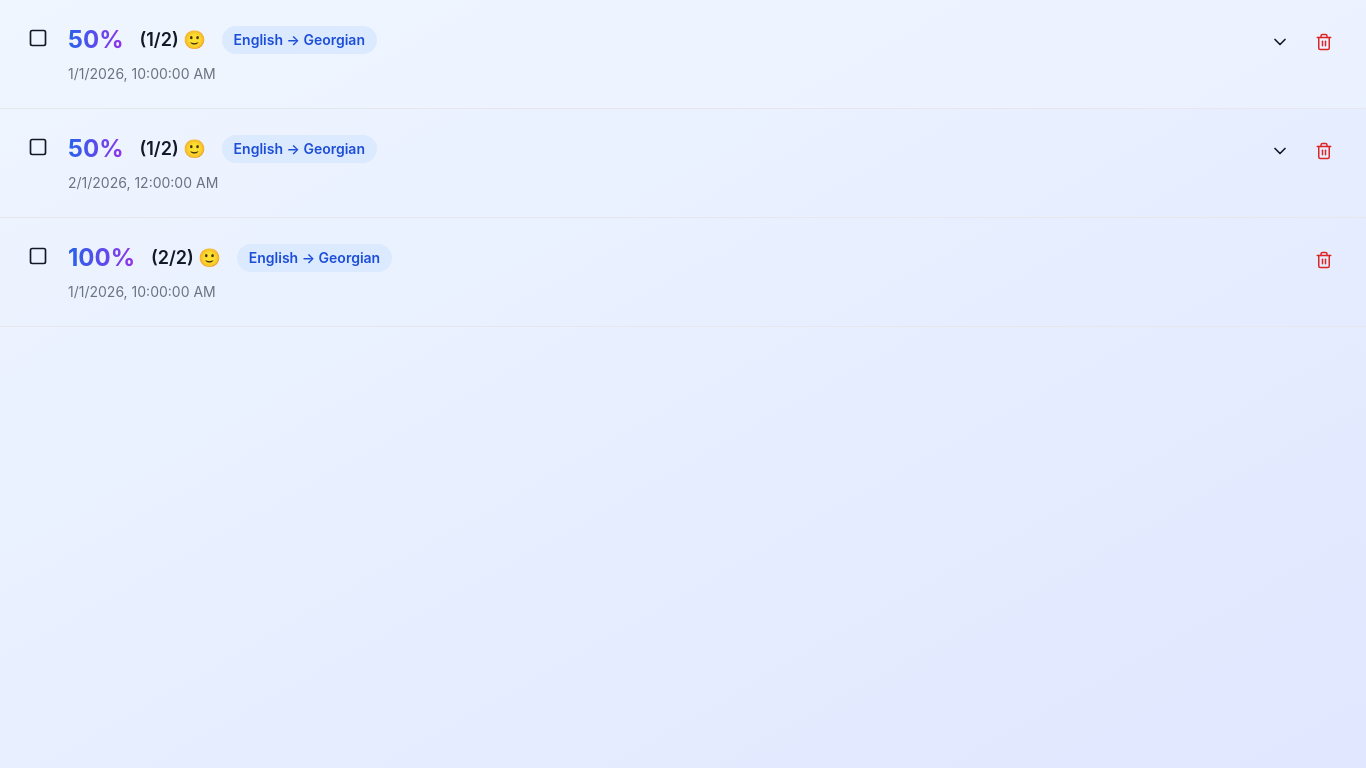
History summary interaction › toggles by score and date and leaves expanded details independently clickable
Click the 1st text "50%".
click(96, 40)  # box [68, 24, 124, 56]
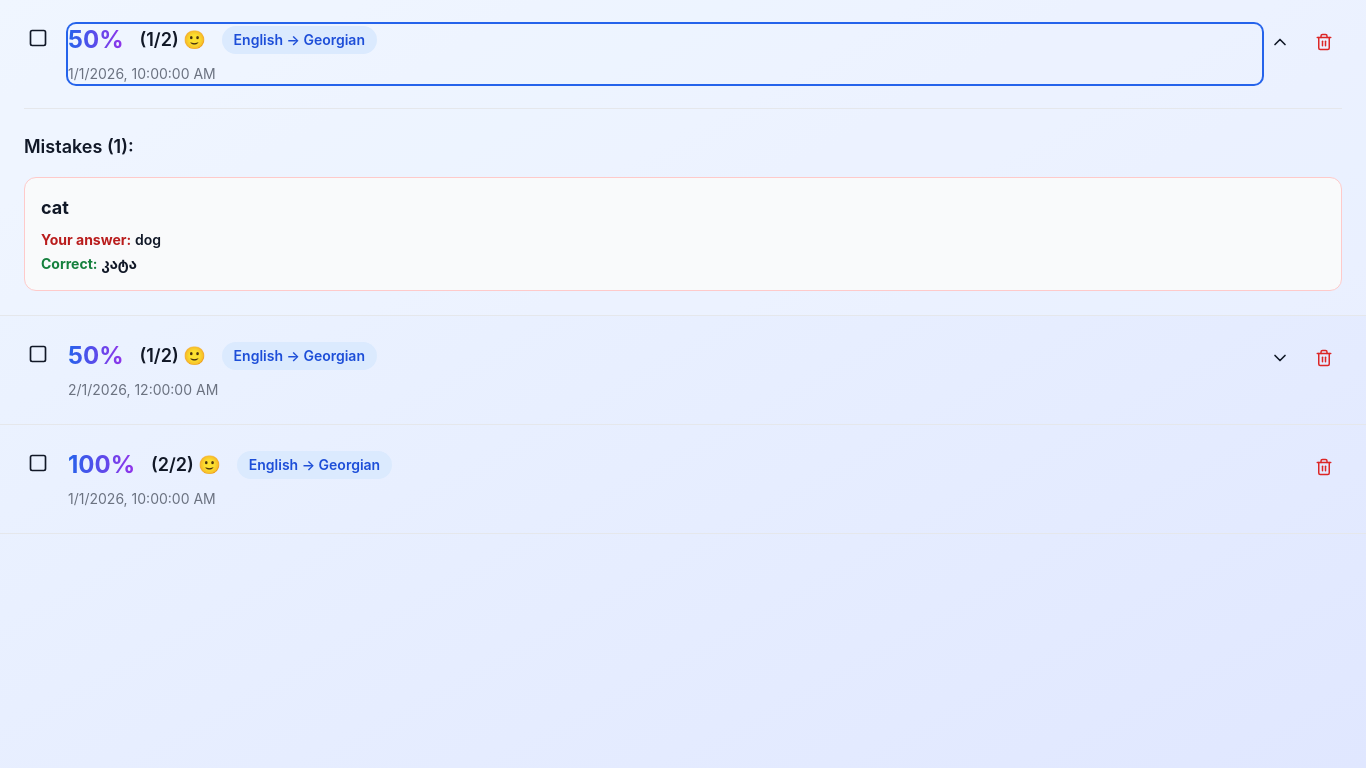
Click the text "dog".
click(148, 240)  # box [135, 231, 161, 248]
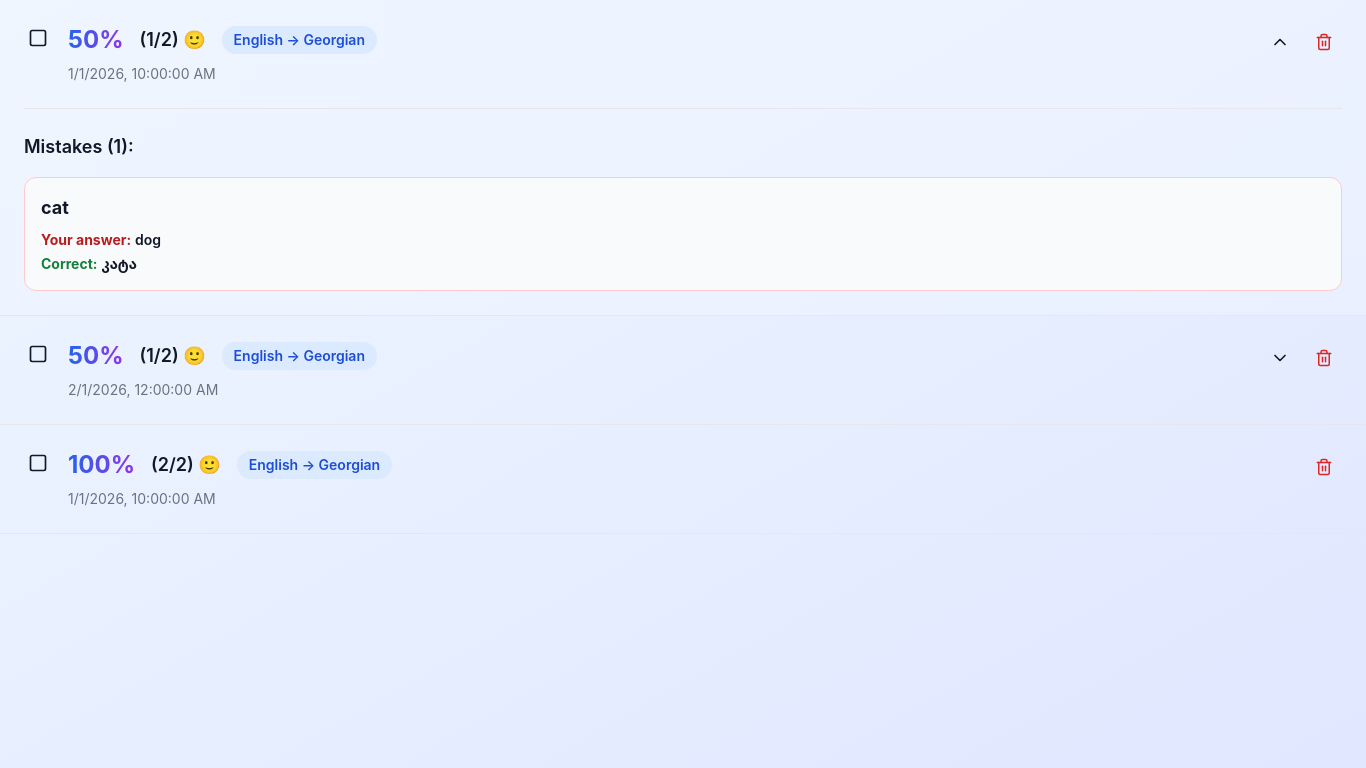
Check: the text "Mistakes (1):" is shown, box [24, 136, 134, 157]
Click the 1st text "1/1/2026, 10:00:00 AM".
click(142, 74)  # box [68, 65, 216, 82]
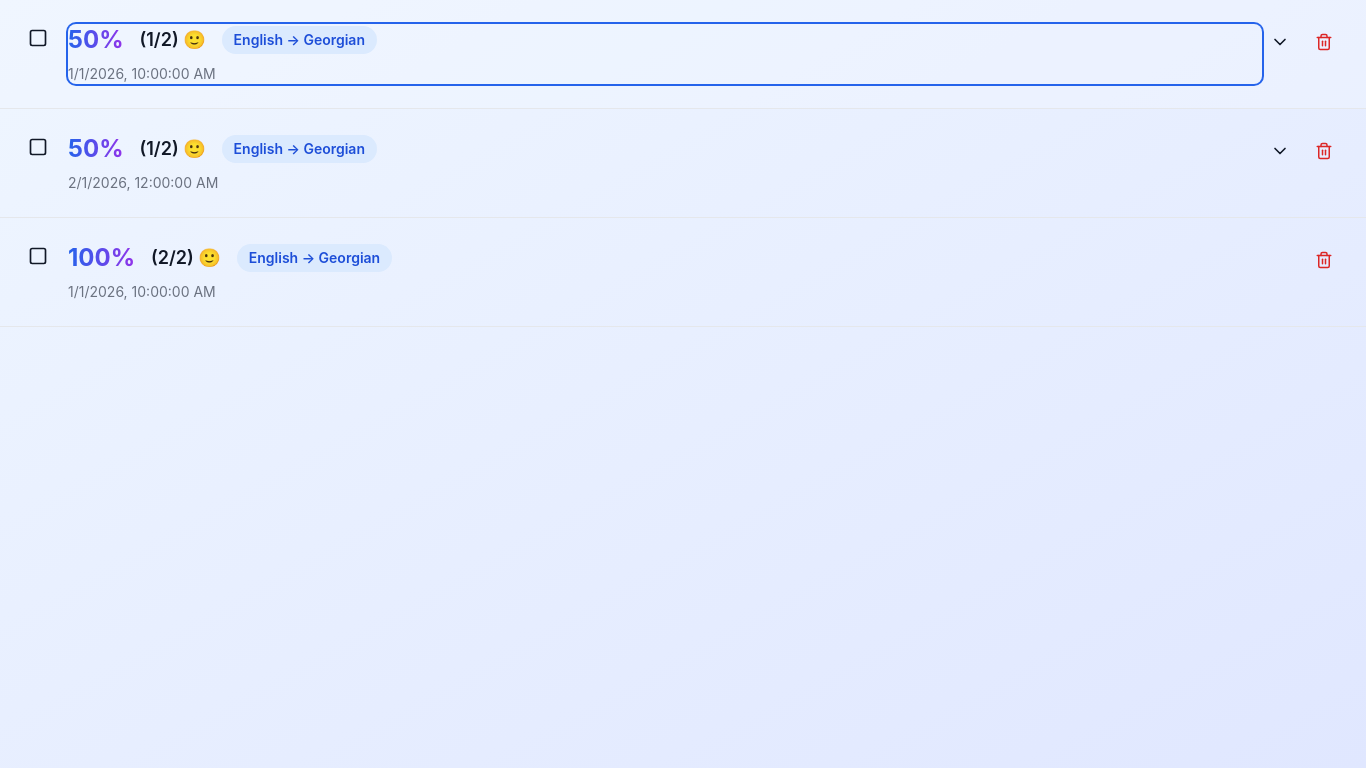
Check: the text "Mistakes (1):" is gone
